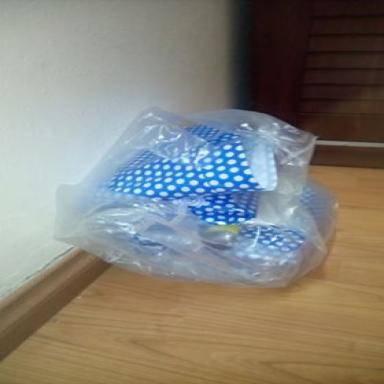plasticbag: (28, 98, 346, 308)
